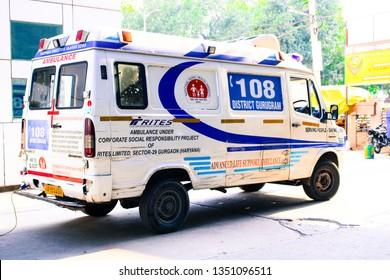ER: (18, 28, 348, 232)
